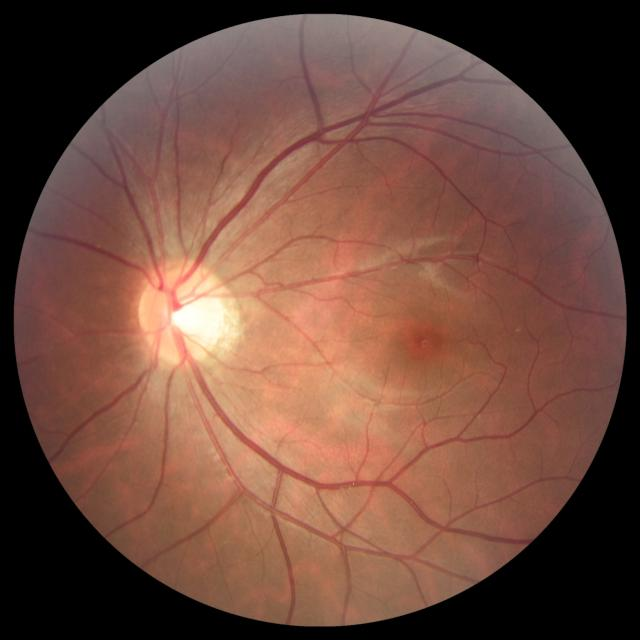OC: (168, 295, 215, 337)
OD: (138, 260, 227, 365)
